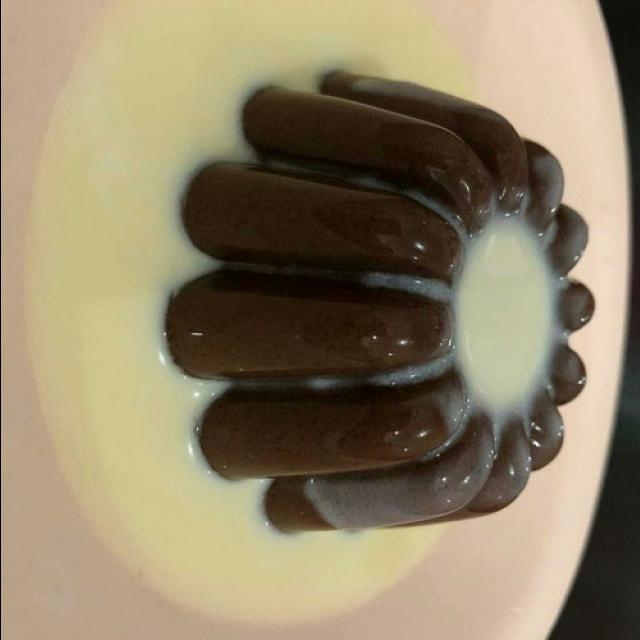puding: (152, 69, 590, 569)
